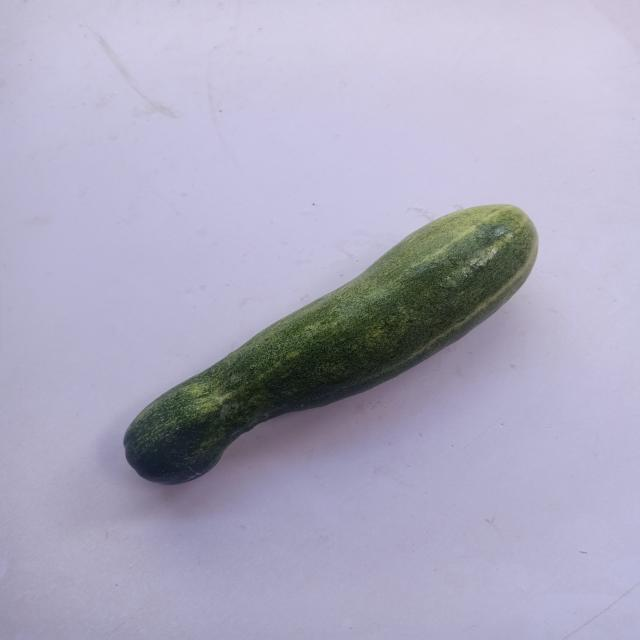Cucumber: (81, 189, 561, 522)
